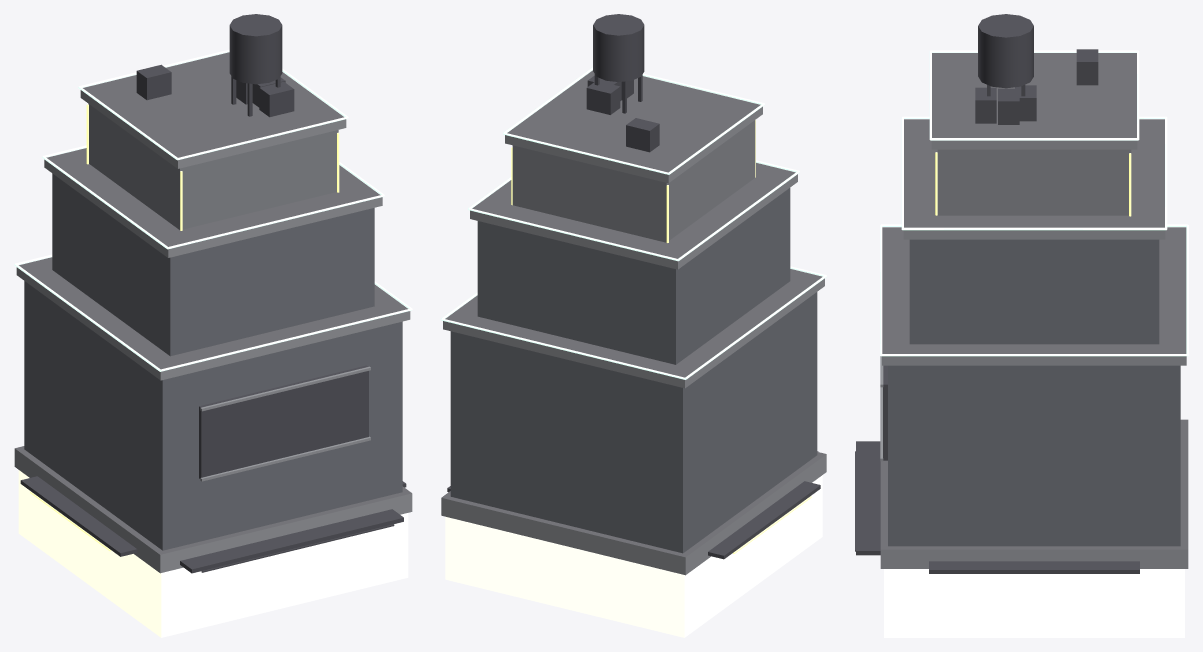
File: s14_zig.glb
The picture shows the model from 3 angles, left to right: view 1: azimuth 30°, elevation 25°; view 2: azimuth 150°, elevation 25°; view 3: azimuth 270°, elevation 25°; orthographic projection. The views are drawn at different scales.
Visible parts, largest first — view 1: s14_zig; view 2: s14_zig; view 3: s14_zig.
Boxes of the visible parts, <box> form: s14_zig: <box>14,14,412,637</box>; s14_zig: <box>441,14,826,637</box>; s14_zig: <box>855,14,1188,637</box>.
Size of the model in its own units: 16.24 by 28.9 by 15.51.
